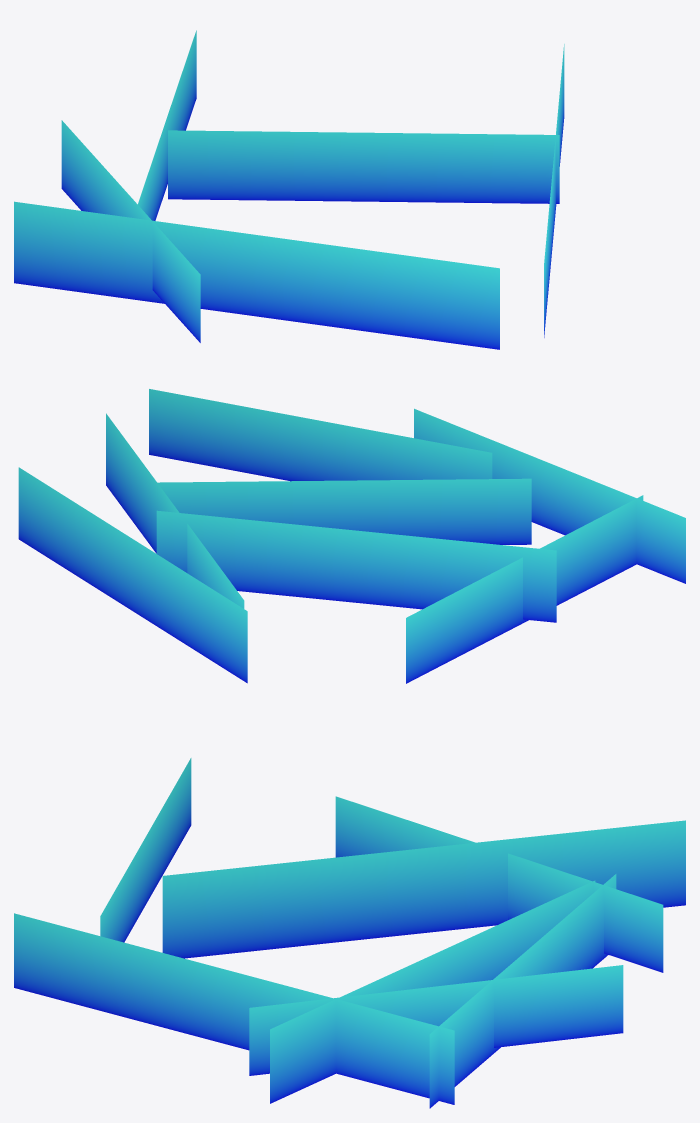
The model's file is SM_Env_Grass_Short_Clump_03.gltf.
3 views of the same model, one above another, from view 1: azimuth 30°, elevation 25°; view 2: azimuth 150°, elevation 25°; view 3: azimuth 270°, elevation 25° (orthographic). The views are drawn at different scales.
Parts seen in each view (by area): view 1: SM_Env_Grass_Short_Clump_03_LOD0; view 2: SM_Env_Grass_Short_Clump_03_LOD0; view 3: SM_Env_Grass_Short_Clump_03_LOD0.
Part boxes in pixels (left/top/right/bottom): SM_Env_Grass_Short_Clump_03_LOD0: left=14, top=30, right=564, bottom=349; SM_Env_Grass_Short_Clump_03_LOD0: left=18, top=389, right=685, bottom=683; SM_Env_Grass_Short_Clump_03_LOD0: left=14, top=758, right=685, bottom=1108.
Bounding box in the file's own units: 1.72 × 0.2684 × 1.73.
